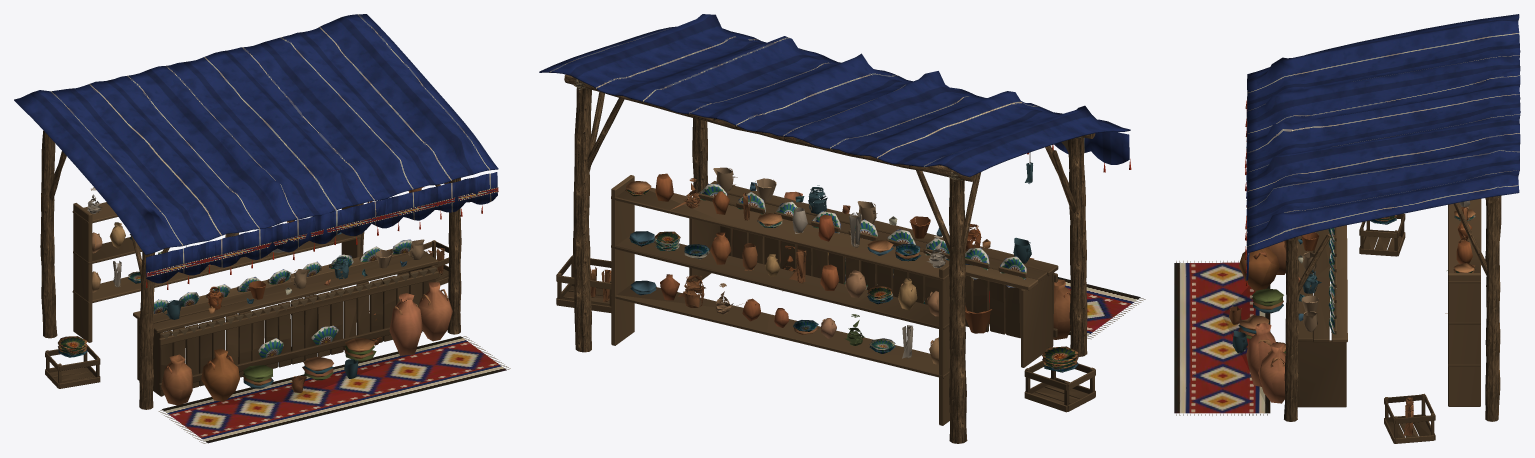
Rendered from village-kiosk-3-v2-lite.glb.
3 renders of one model, left to right at view 1: azimuth 30°, elevation 25°; view 2: azimuth 150°, elevation 25°; view 3: azimuth 270°, elevation 25°, orthographic. The views are drawn at different scales.
Parts seen in each view (by area): view 1: K3_Cloth, K3_Wood, K3_Props; view 2: K3_Wood, K3_Cloth, K3_Props; view 3: K3_Cloth, K3_Wood, K3_Props.
Boxes of the visible parts, bbox=[...] form: K3_Cloth: bbox=[14, 14, 498, 283]; K3_Wood: bbox=[40, 130, 461, 409]; K3_Props: bbox=[58, 187, 510, 443]; K3_Wood: bbox=[556, 74, 1095, 443]; K3_Cloth: bbox=[539, 14, 1130, 176]; K3_Props: bbox=[573, 79, 1145, 372]; K3_Cloth: bbox=[1246, 14, 1520, 280]; K3_Wood: bbox=[1284, 195, 1501, 443]; K3_Props: bbox=[1174, 96, 1500, 436].
Bounding box in the file's own units: 5.43 × 2.95 × 3.79.
Materials: 3 (3 with a texture image).
